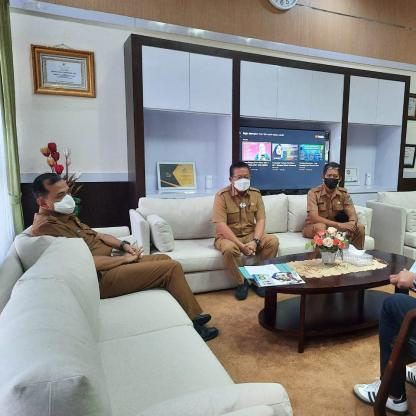meja: (246, 248, 414, 347)
sova: (1, 226, 175, 416), (129, 194, 381, 262)
tanaman: (312, 228, 346, 266)
